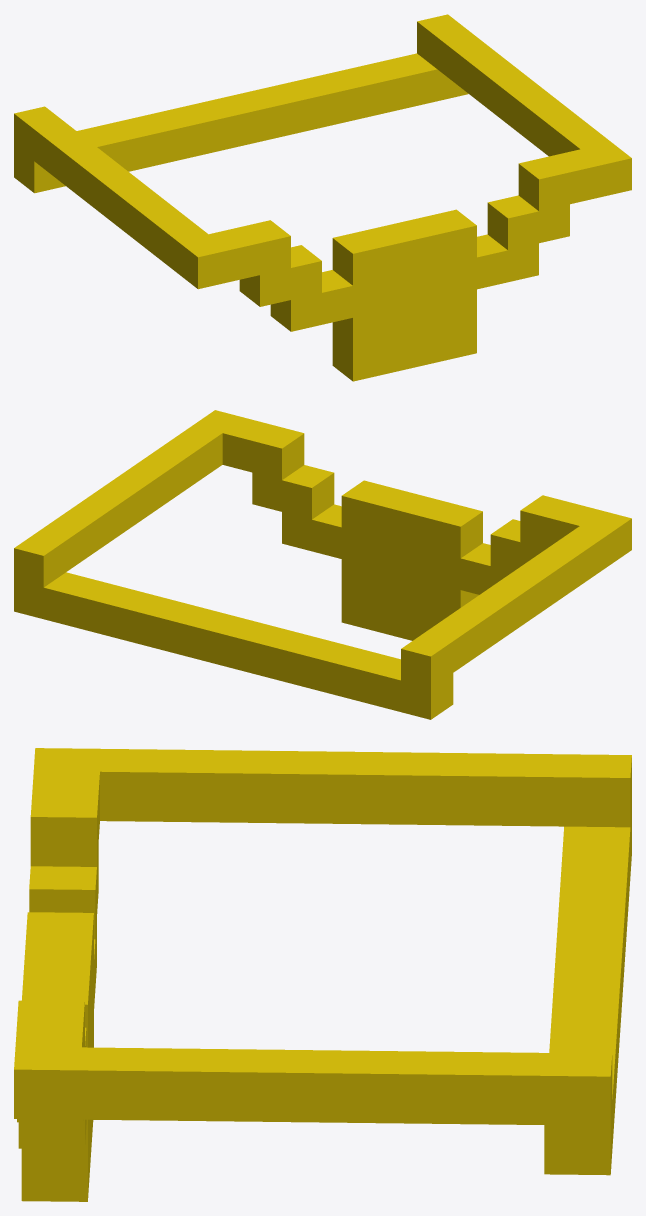
Rendered from donnie_chain.gltf.
The picture shows the model from 3 angles, top to bottom: view 1: azimuth 30°, elevation 25°; view 2: azimuth 150°, elevation 25°; view 3: azimuth 270°, elevation 25°; orthographic projection. The views are drawn at different scales.
Parts seen in each view (by area): view 1: cube_7, cube_2, cube_1, cube, cube_4, cube_8, cube_3, cube_5, cube_6, cube_9, cube_11, cube_10; view 2: cube_2, cube_7, cube_1, cube, cube_4, cube_8, cube_3, cube_9, cube_11, cube_5, cube_6, cube_10; view 3: cube, cube_1, cube_2, cube_7, cube_3, cube_10, cube_5, cube_4, cube_9.
Boxes of the visible parts, <box> form: cube_7: <box>332,209,476,381</box>; cube_2: <box>65,53,437,186</box>; cube_1: <box>14,106,228,289</box>; cube: <box>417,14,631,196</box>; cube_4: <box>518,149,600,211</box>; cube_8: <box>487,195,569,250</box>; cube_3: <box>209,220,290,281</box>; cube_5: <box>239,245,321,306</box>; cube_6: <box>270,270,352,331</box>; cube_9: <box>477,234,538,289</box>; cube_11: <box>14,146,65,193</box>; cube_10: <box>437,69,468,101</box>; cube_2: <box>43,572,400,711</box>; cube_7: <box>341,480,482,640</box>; cube_1: <box>401,510,631,688</box>; cube: <box>14,410,244,587</box>; cube_4: <box>222,418,304,479</box>; cube_8: <box>252,465,334,519</box>; cube_3: <box>520,495,601,548</box>; cube_9: <box>282,504,341,558</box>; cube_11: <box>401,673,453,719</box>; cube_5: <box>490,519,545,571</box>; cube_6: <box>460,543,512,594</box>; cube_10: <box>14,580,43,618</box>; cube: <box>14,1046,612,1125</box>; cube_1: <box>33,748,631,827</box>; cube_2: <box>549,826,630,1148</box>; cube_7: <box>21,912,93,1201</box>; cube_3: <box>30,771,99,866</box>; cube_10: <box>544,1104,612,1175</box>; cube_5: <box>29,844,98,939</box>; cube_4: <box>15,1000,84,1047</box>; cube_9: <box>18,1119,86,1149</box>.
Bounding box in the file's own units: 0.7223 × 0.2525 × 0.5741.
